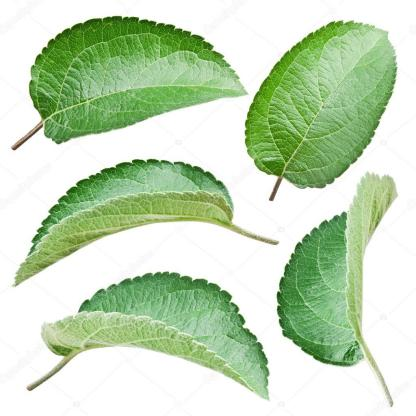Apple leaf: (42, 269, 279, 407), (9, 151, 249, 285), (265, 165, 402, 399), (21, 16, 252, 150), (240, 9, 399, 197)
